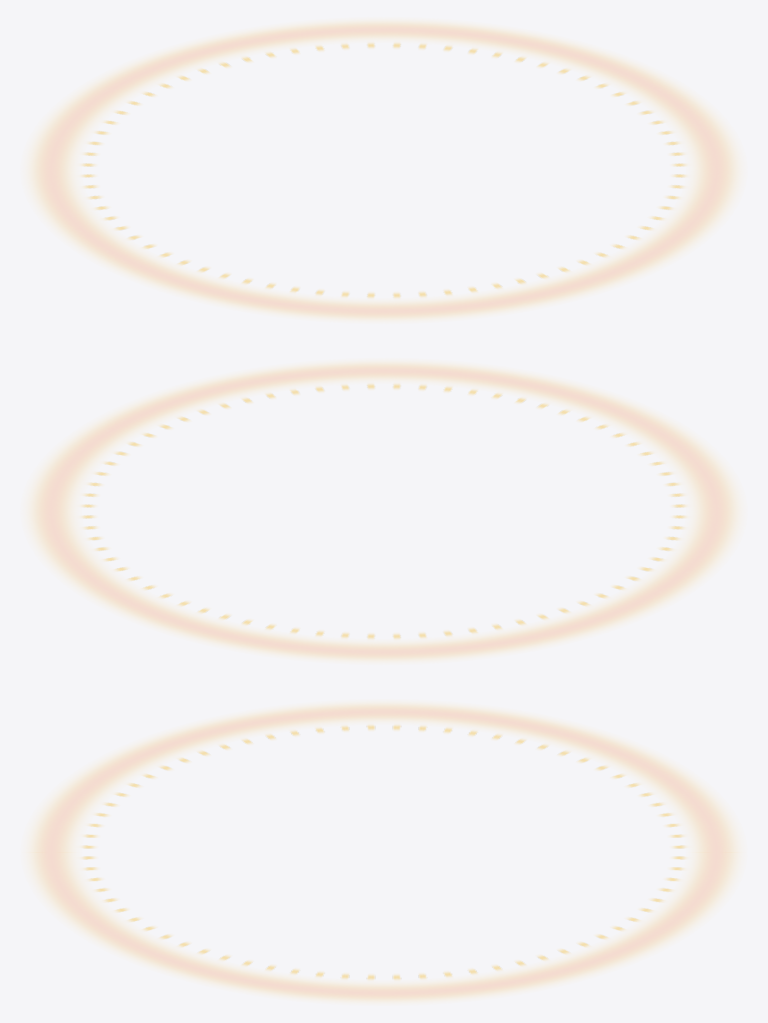
File: fx_toll_ring.glb
The picture shows the model from 3 angles, top to bottom: view 1: azimuth 30°, elevation 25°; view 2: azimuth 150°, elevation 25°; view 3: azimuth 270°, elevation 25°; orthographic projection.
Parts seen in each view (by area): view 1: Ring; view 2: Ring; view 3: Ring.
Part boxes in pixels (<box>): Ring: <box>28,20,739,320</box>; Ring: <box>28,361,739,661</box>; Ring: <box>27,702,740,1002</box>.
Bounding box in the file's own units: 2 × 0 × 2.
1 material, 1 textured.
